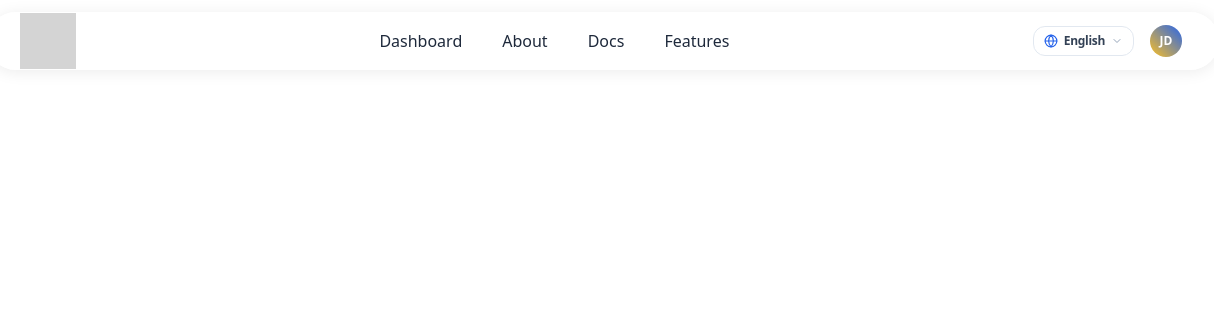
Scenario: Navbar Component › Edge Cases › disables logout button when submitting
Open profile dropdown
Click the button "JD".
click(1166, 41)  # box [1146,21,1186,61]
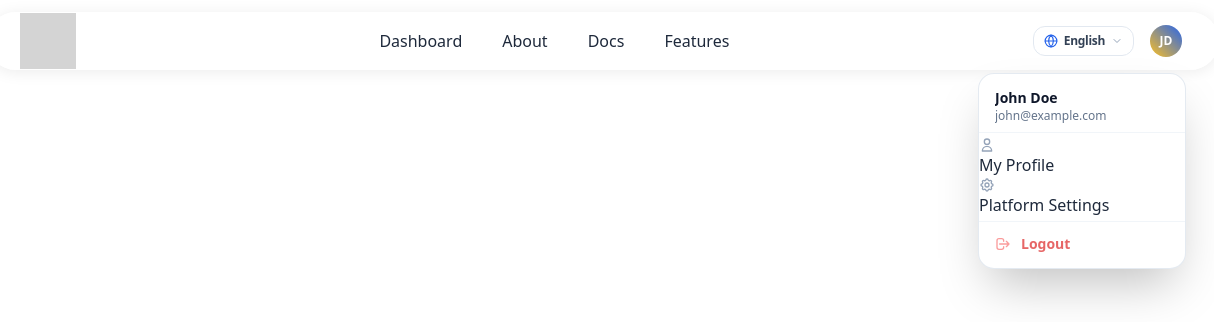
Expected: the button "Logout" is disabled, [979,226,1185,262]
